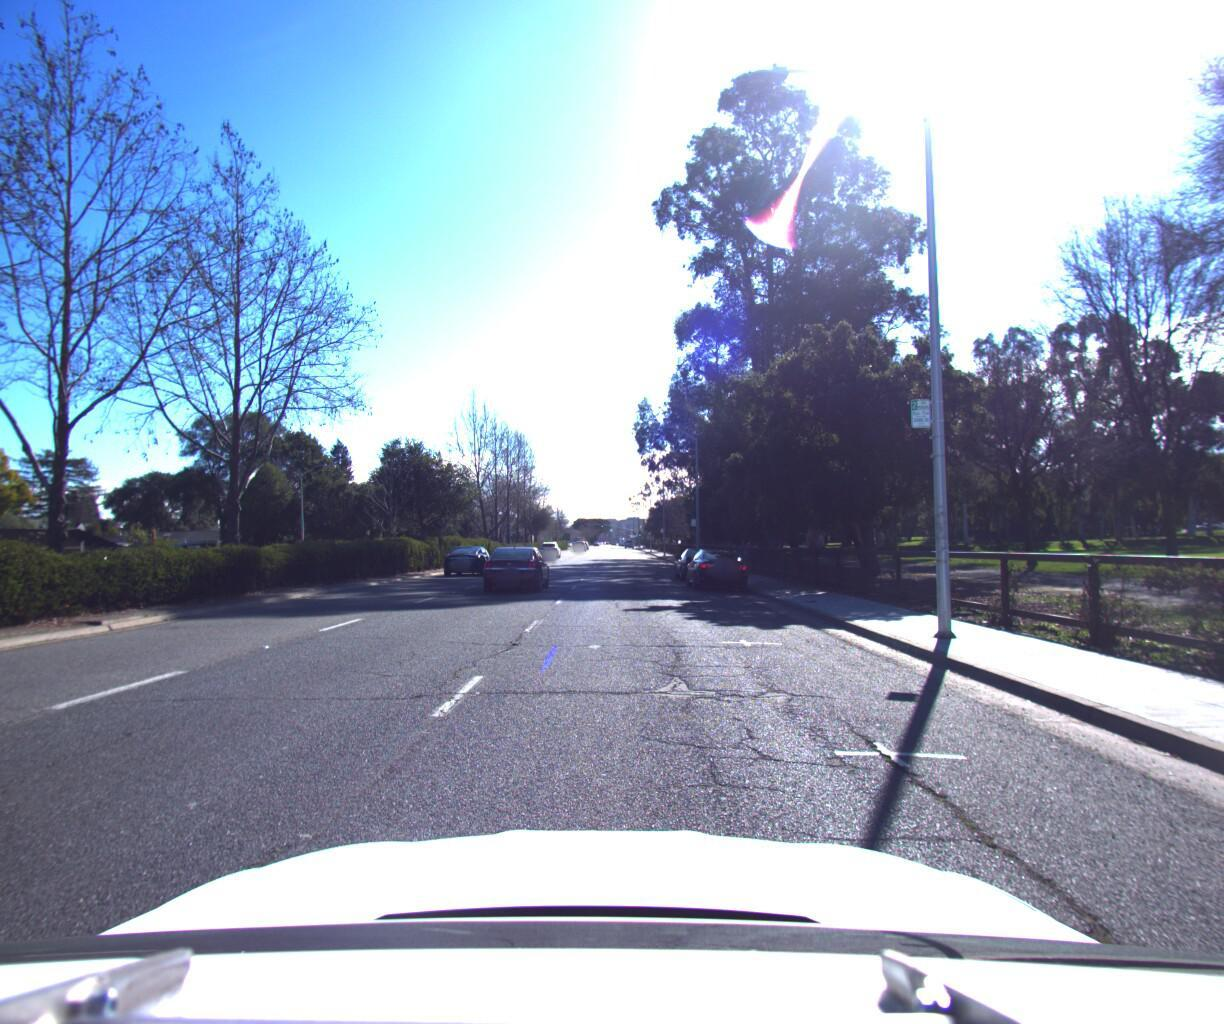car: (474, 535, 553, 587), (681, 537, 751, 589), (671, 537, 724, 577), (440, 533, 495, 570), (538, 531, 563, 551)
